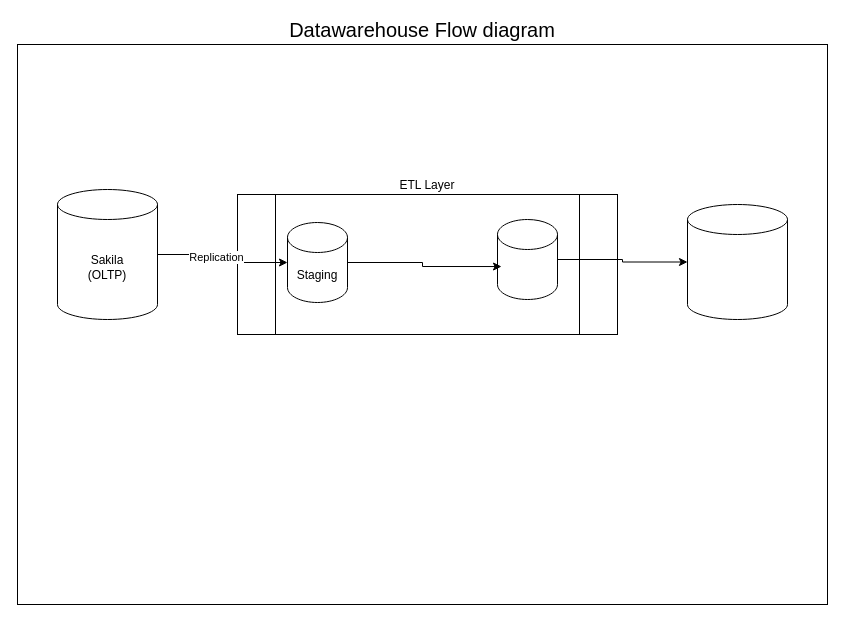
Some shapes in this 845 by 622 pixel diagram are drawn without their labels. The centre of each missing label's shape, as x and y in pixels:
Datawarehouse (OLAP): point 737,262
Operational Data Store (ODS): point 527,259
